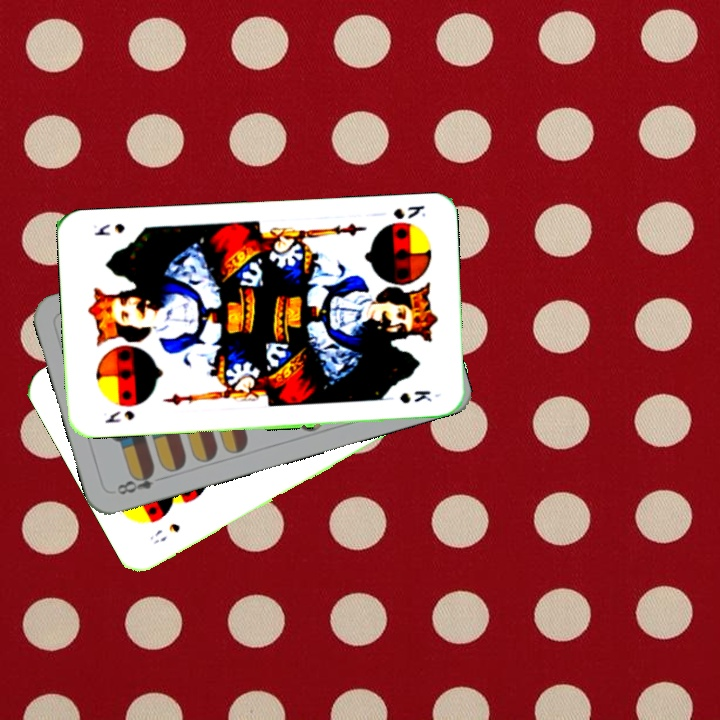E8: (113, 466, 168, 498)
S8: (145, 519, 183, 547)
SK: (389, 201, 428, 222), (101, 406, 137, 426)
